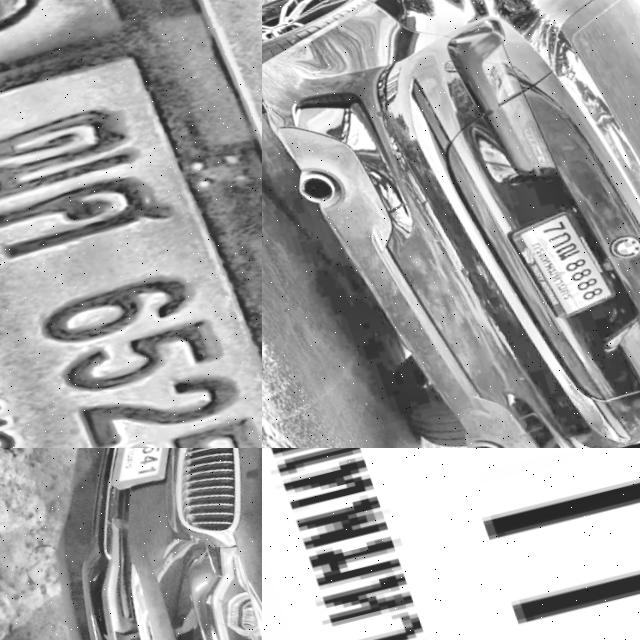license-plate: (0, 0, 262, 448), (262, 448, 640, 640), (492, 203, 609, 324), (73, 448, 198, 491)
